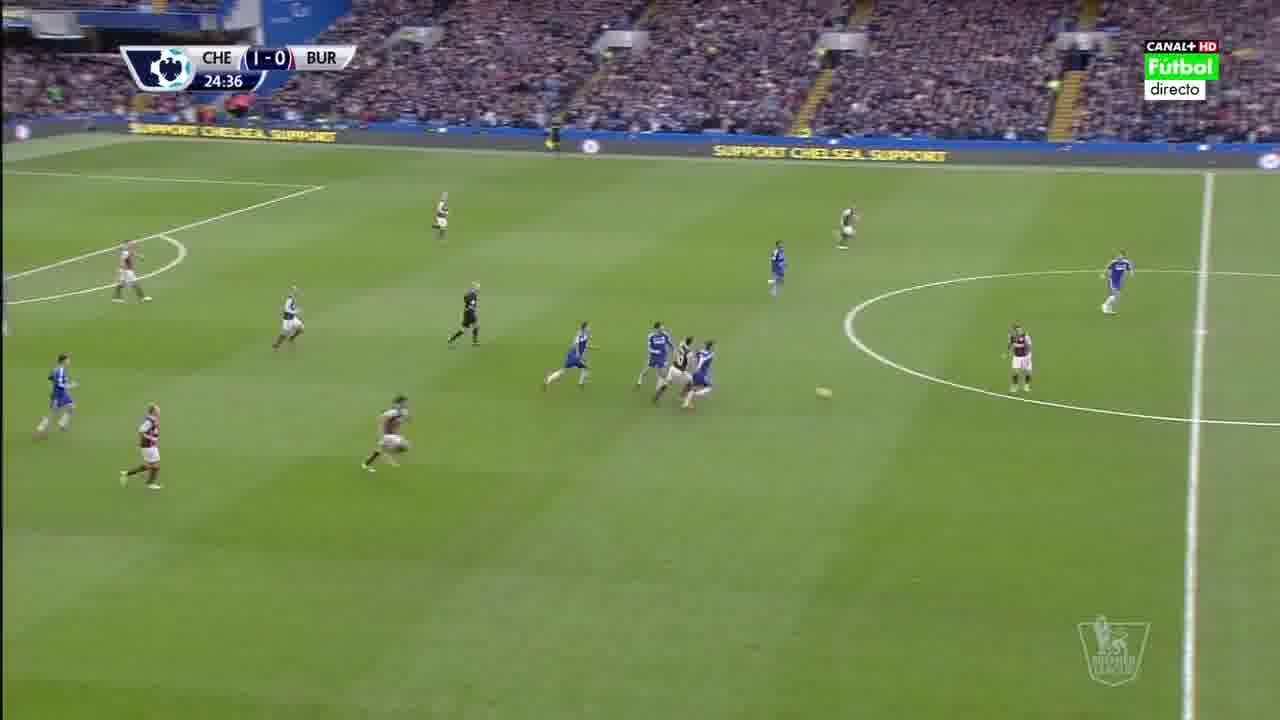football: (816, 385, 832, 400)
